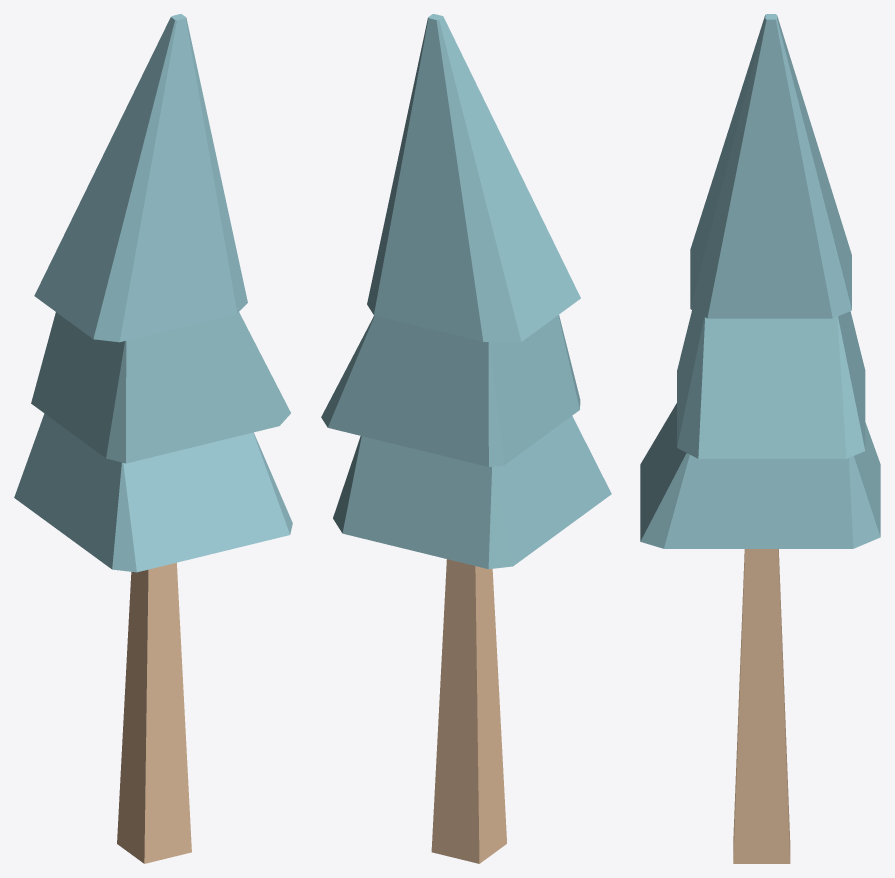
File: tree_pine_shortSquare.glb
3 views of the same model, side by side, from view 1: azimuth 30°, elevation 25°; view 2: azimuth 150°, elevation 25°; view 3: azimuth 270°, elevation 25° (orthographic). The views are drawn at different scales.
Parts seen in each view (by area): view 1: tree_pine_shortSquare; view 2: tree_pine_shortSquare; view 3: tree_pine_shortSquare.
Part boxes in pixels (x1,y1,x2,y2): tree_pine_shortSquare: (14,14,292,863); tree_pine_shortSquare: (321,14,611,863); tree_pine_shortSquare: (640,14,880,863).
Bounding box in the file's own units: 0.3863 × 1.53 × 0.392.
